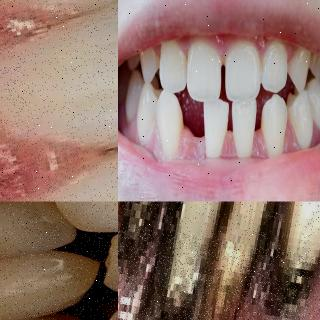Gum Swelling: (0, 110, 108, 202), (0, 0, 58, 78)
calculus: (118, 202, 226, 306), (190, 204, 256, 320), (276, 201, 320, 320)
